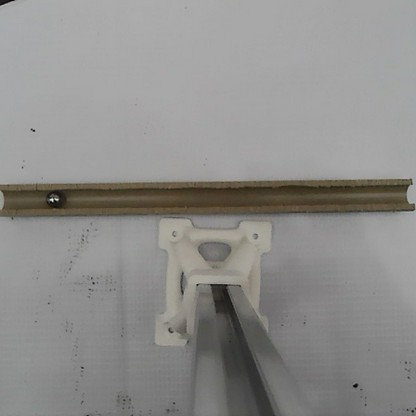ironball: (42, 187, 64, 208)
